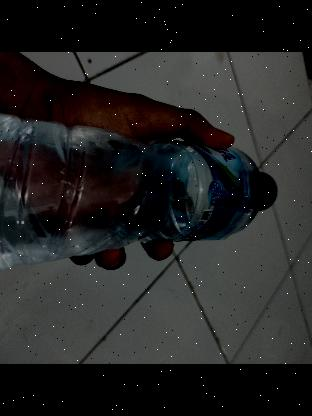Plastic Bottle: (0, 108, 277, 273)
